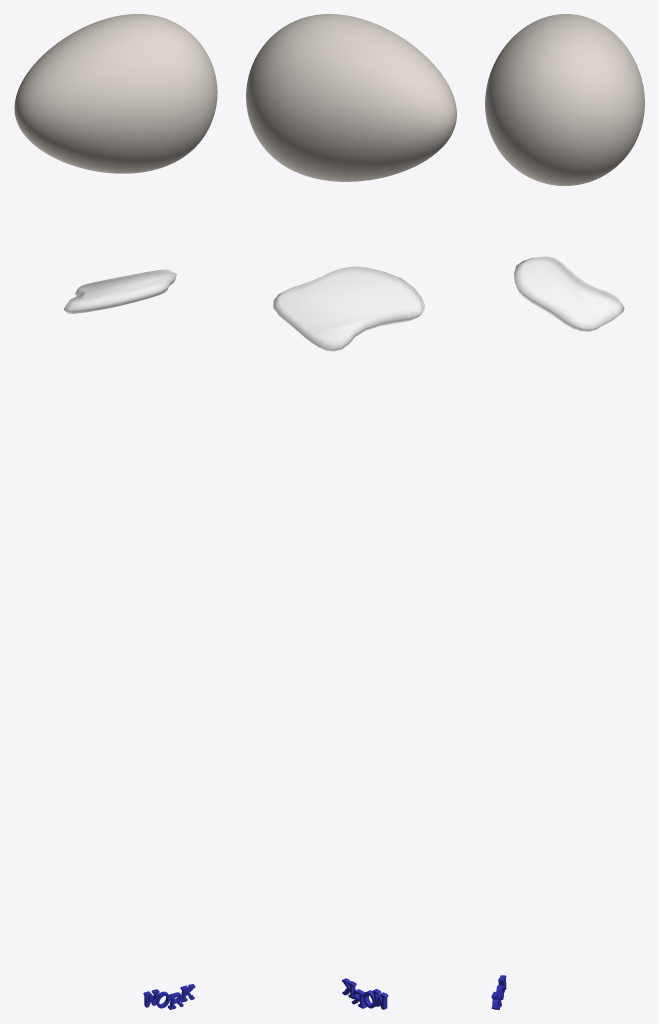
The picture shows the model from 3 angles, left to right: view 1: azimuth 30°, elevation 25°; view 2: azimuth 150°, elevation 25°; view 3: azimuth 270°, elevation 25°; orthographic projection. The views are drawn at different scales.
Parts seen in each view (by area): view 1: 球.005, 球.001, 白身, テキスト; view 2: 球.005, 球.001, 白身, テキスト; view 3: 球.001, 白身, 球.005.
Part boxes in pixels (<box>): 球.005: <box>14,18,159,173</box>; 球.001: <box>107,14,217,173</box>; 白身: <box>63,269,176,313</box>; テキスト: <box>143,984,195,1009</box>; 球.005: <box>302,19,456,181</box>; 球.001: <box>246,14,363,181</box>; 白身: <box>273,266,425,351</box>; テキスト: <box>342,978,388,1009</box>; 球.001: <box>485,25,644,185</box>; 白身: <box>514,256,624,331</box>; 球.005: <box>490,14,641,78</box>.
Size of the model in its own units: 9.18 by 45.22 by 6.73.
